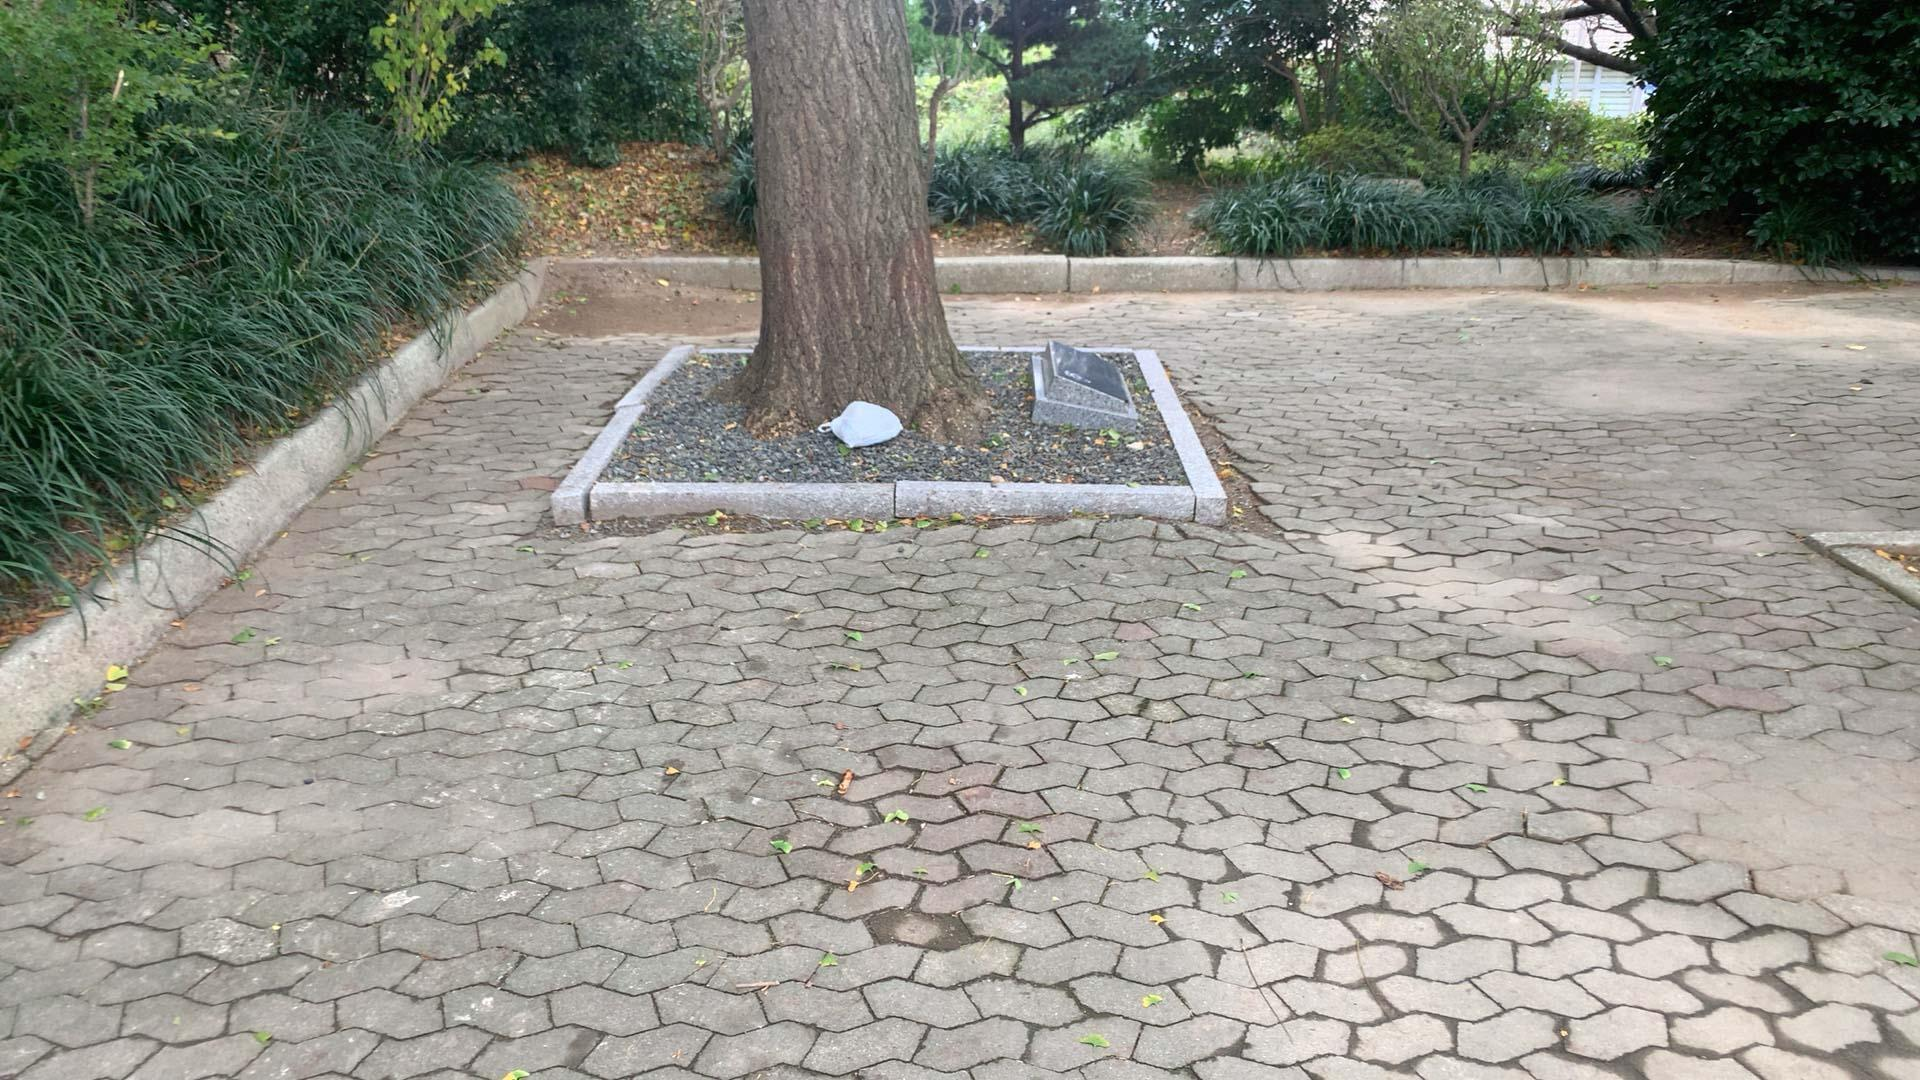white_bag: (812, 398, 907, 454)
